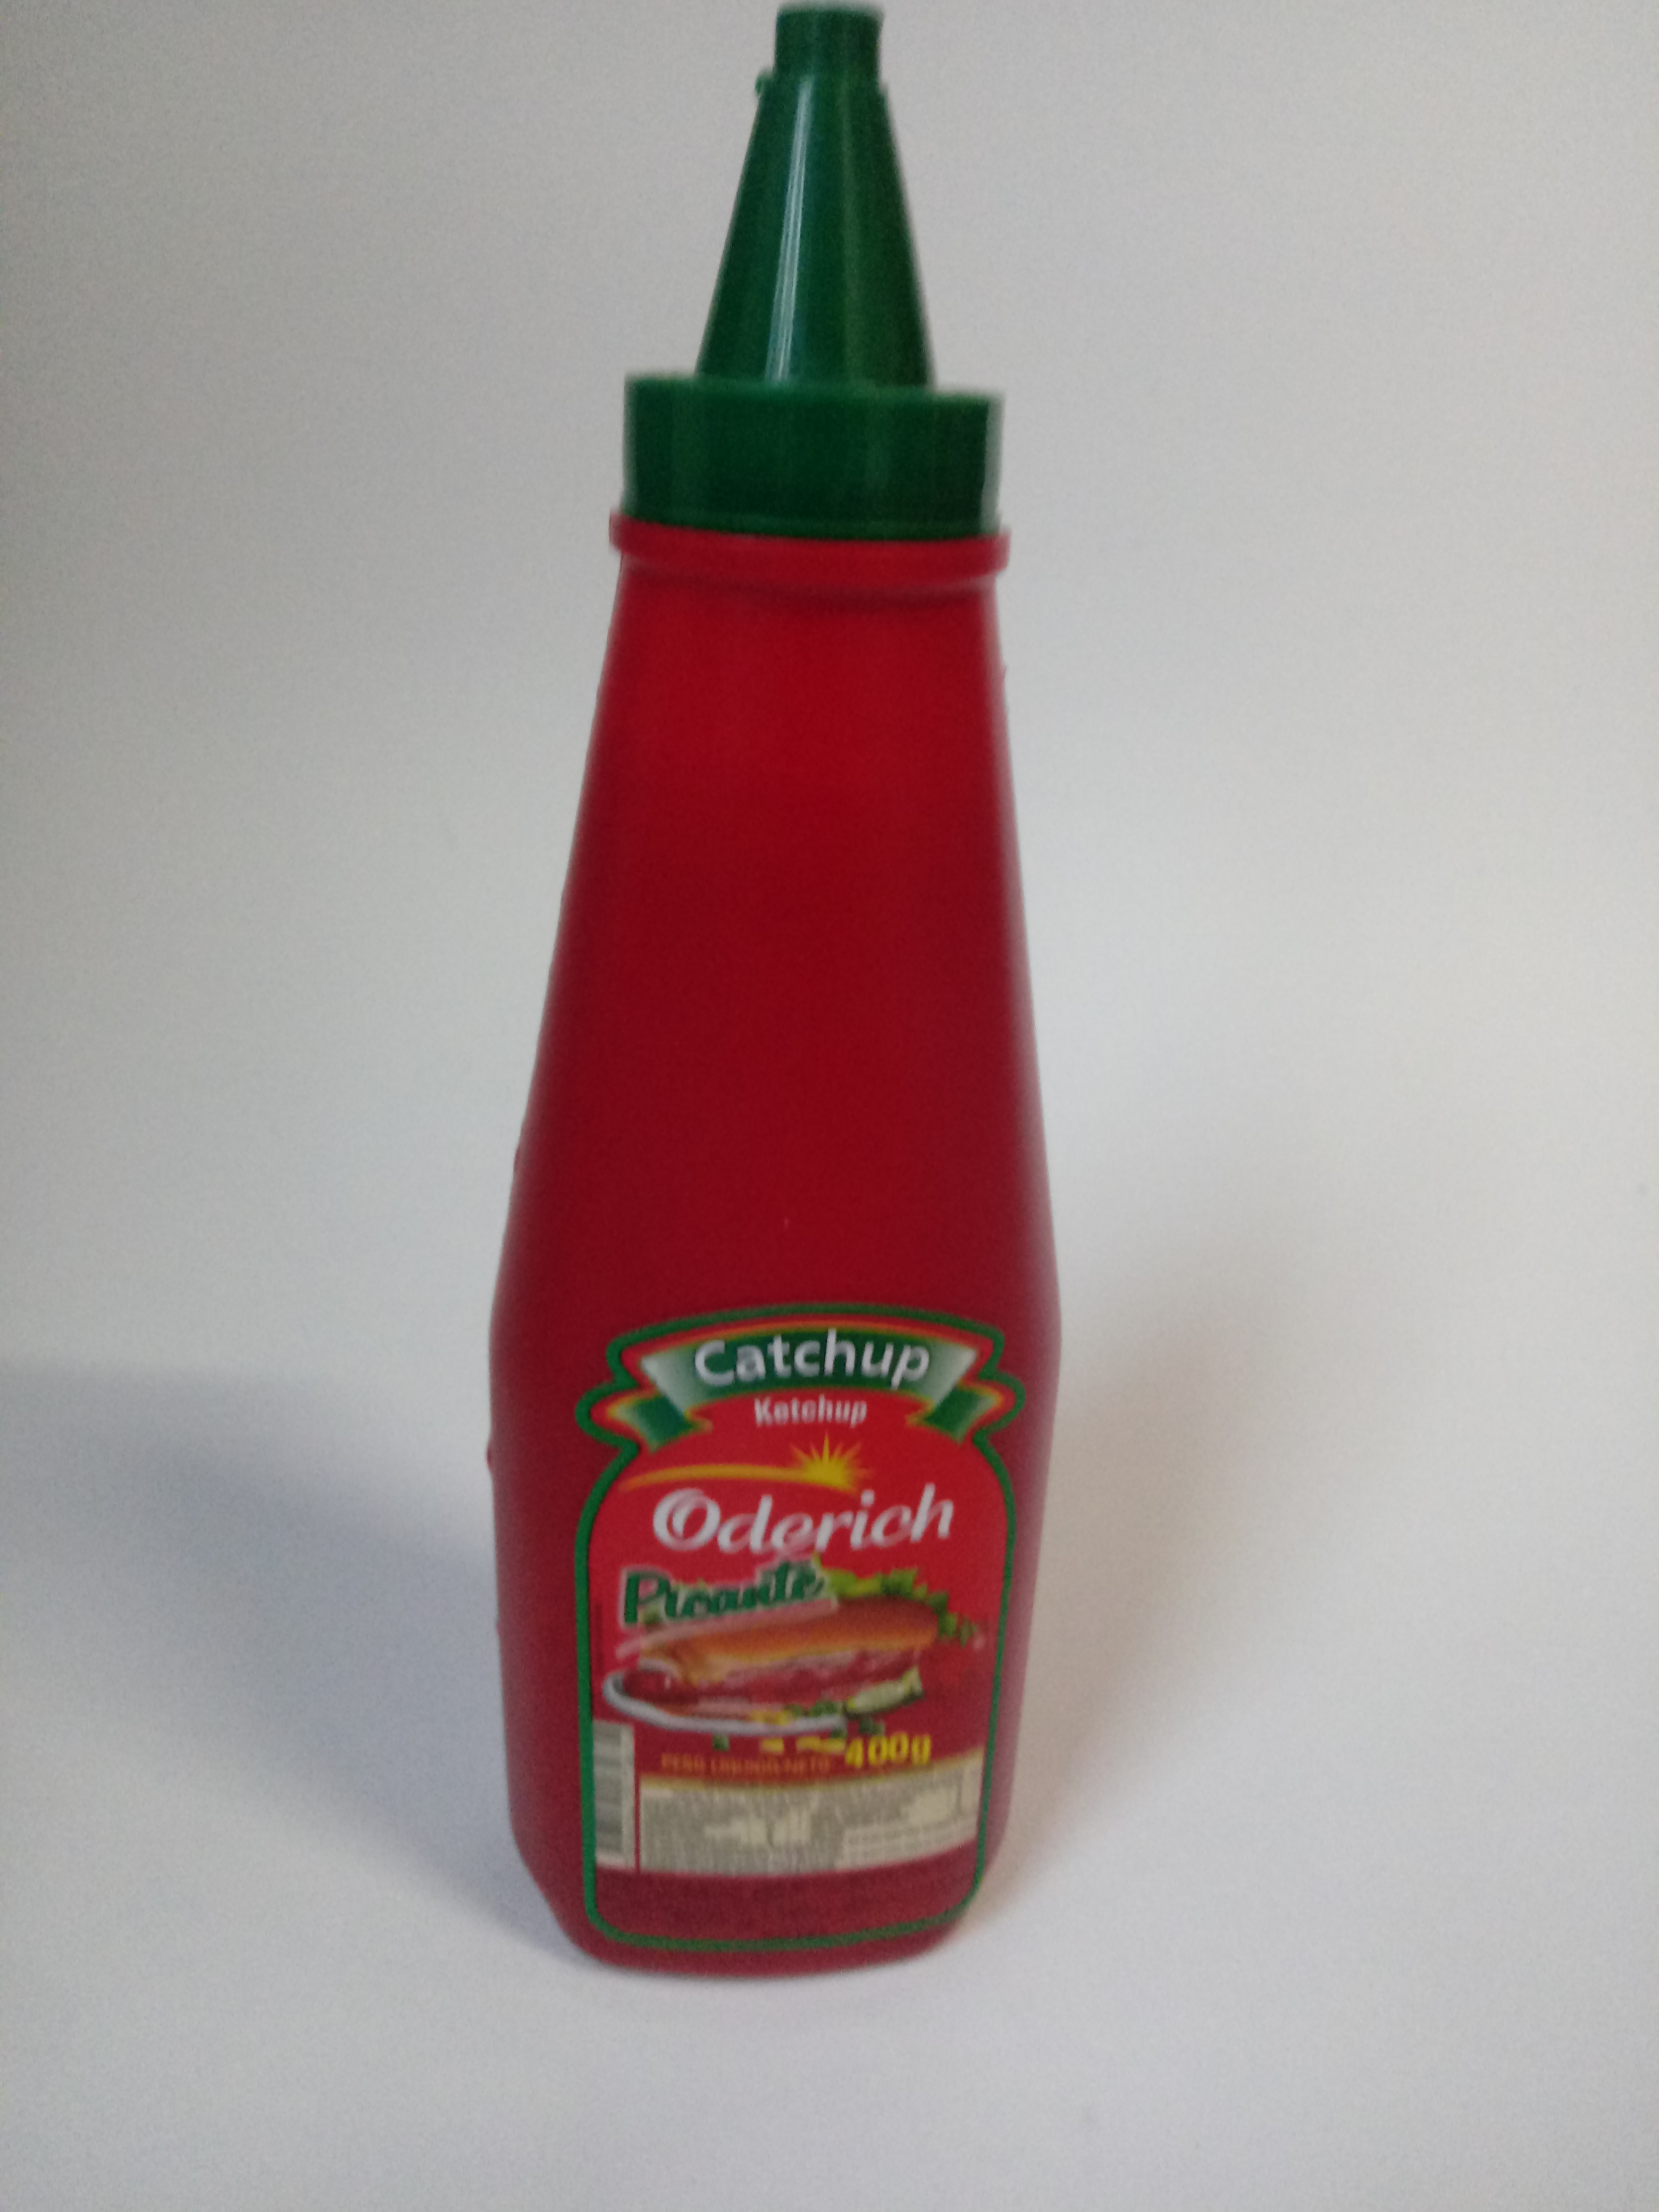catchup-oderich: (481, 16, 1047, 2001)
